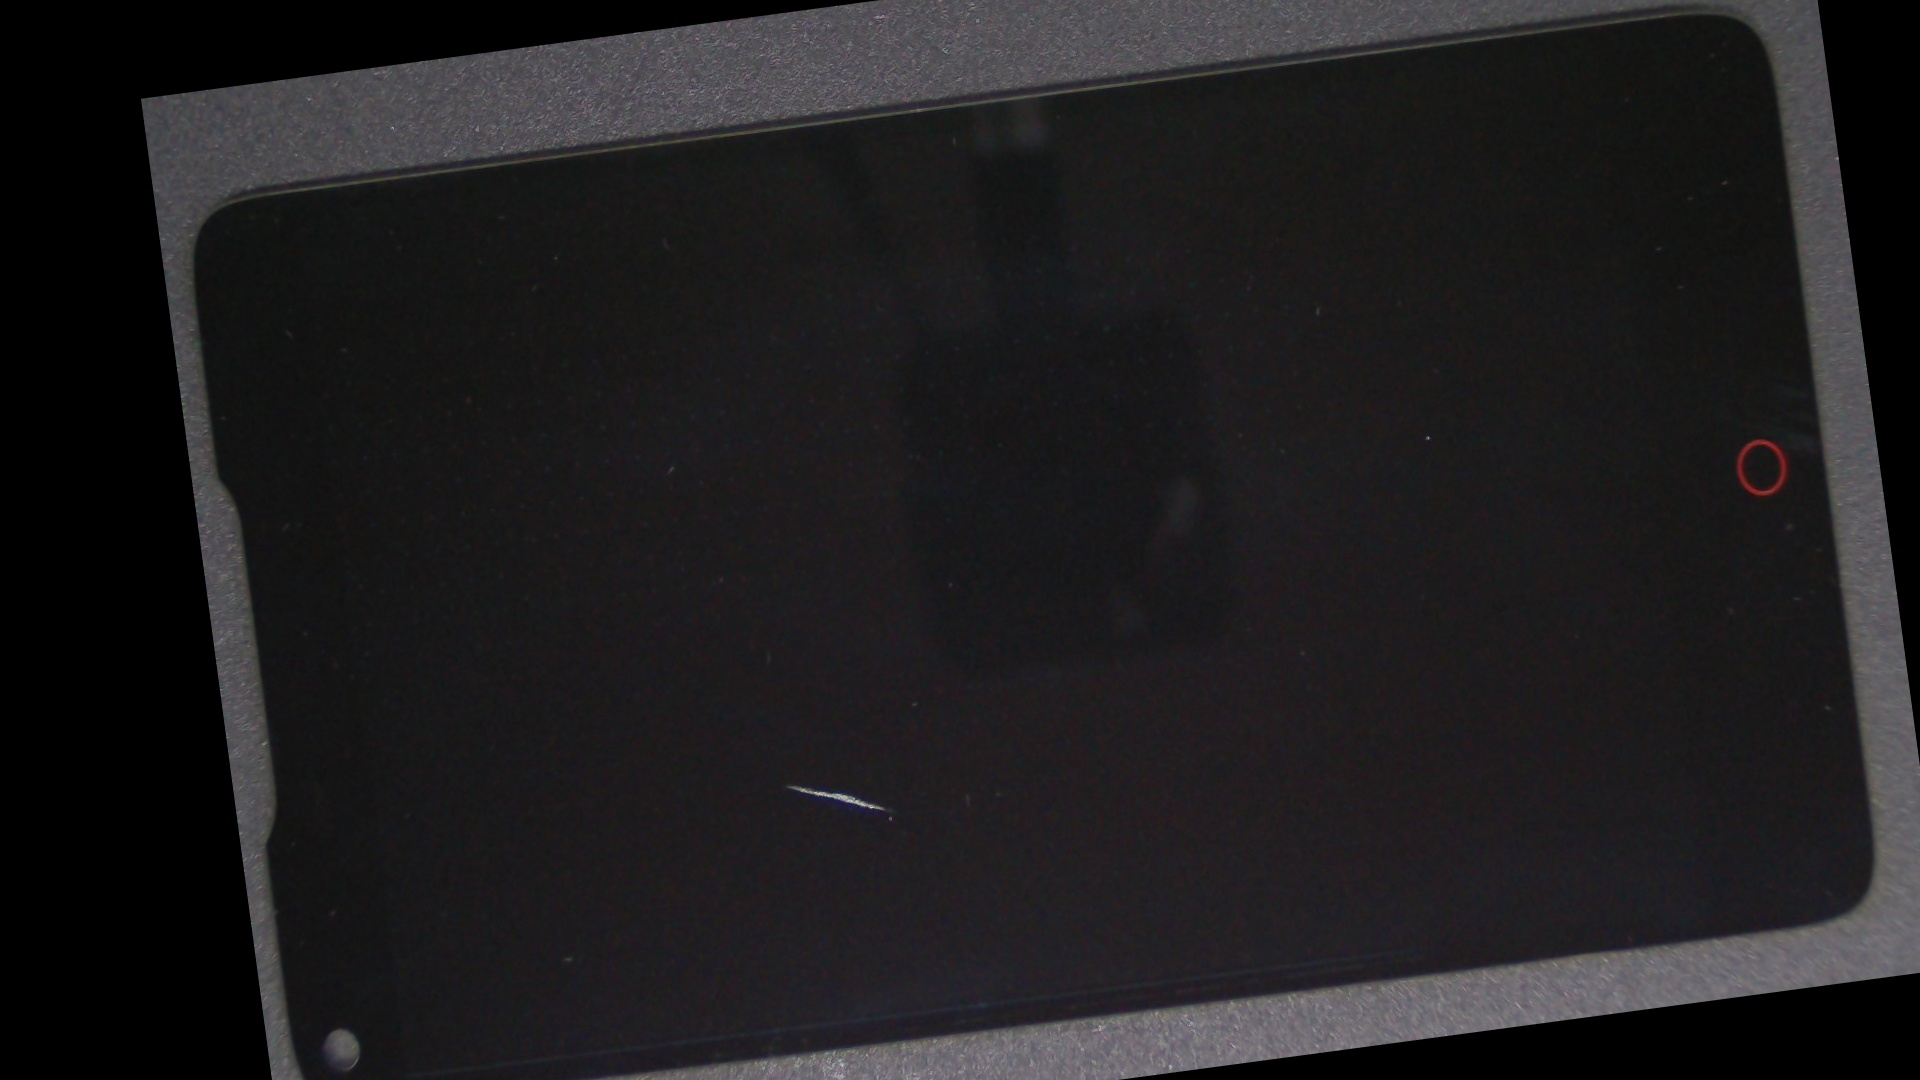oil: (462, 369, 1100, 1080)
